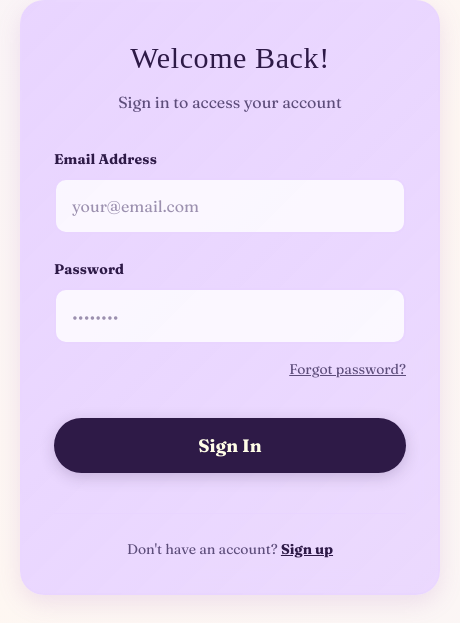
Test: LoginForm › Loading State › should disable button during submission
This screenshot has width=460, height=623.
Type "test@example.com" into the field labelled "Email Address" at (230, 206), box 54,178 -> 406,234
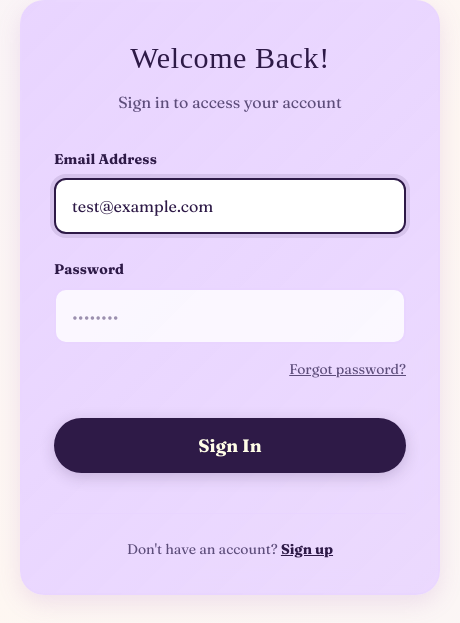
Type "password123" into the password field labelled "Password" at (230, 316), box 54,288 -> 406,344
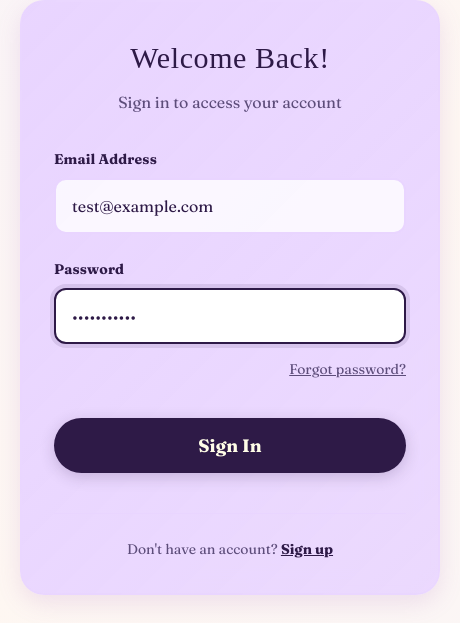
Click the button "Sign In" at (230, 446), box 54,418 -> 406,473
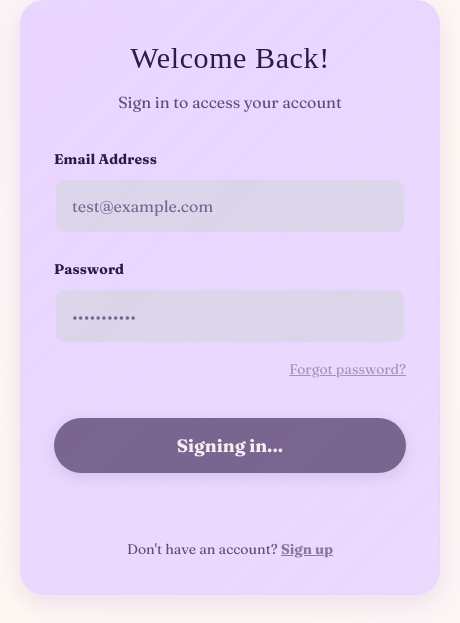
Expected: the button "Signing in..." is disabled, 54,418 -> 406,473
